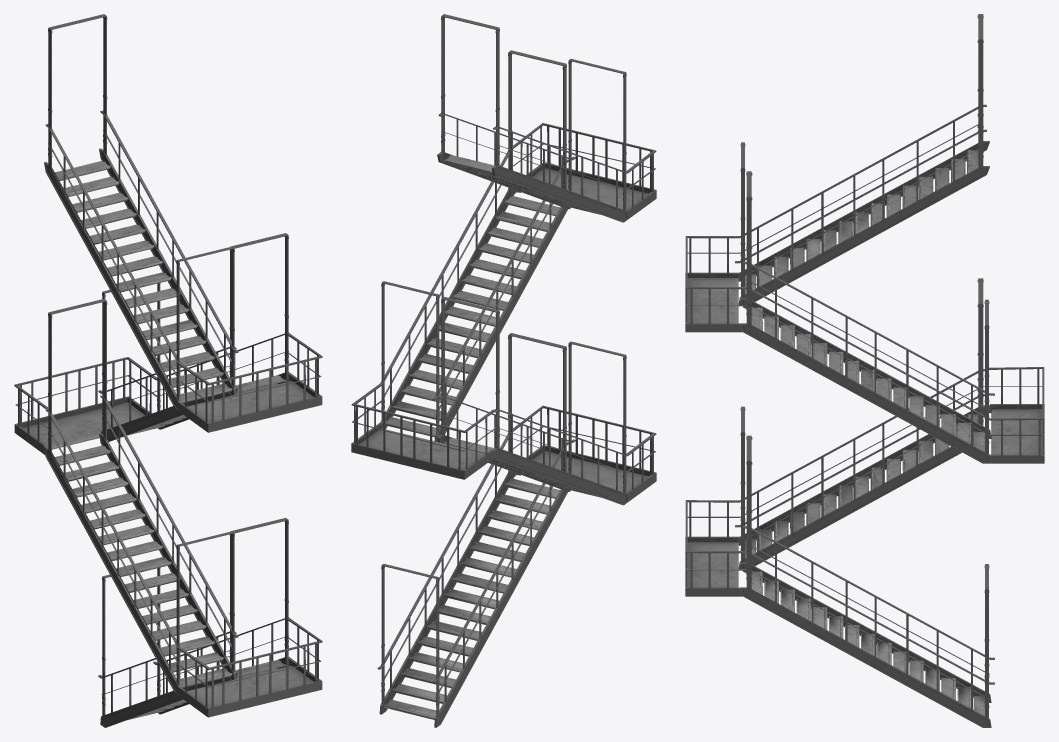
File: staircase.glb
3 views of the same model, side by side, from view 1: azimuth 30°, elevation 25°; view 2: azimuth 150°, elevation 25°; view 3: azimuth 270°, elevation 25° (orthographic). The views are drawn at different scales.
Visible parts, largest first — view 1: Cube.112_StairBody_0, Cube.112_Steps_0, Cube.111_StairBodyPlat_0, Cube.111_StepsPlat_0; view 2: Cube.112_StairBody_0, Cube.112_Steps_0, Cube.111_StairBodyPlat_0, Cube.111_StepsPlat_0; view 3: Cube.112_StairBody_0, Cube.112_Steps_0, Cube.111_StepsPlat_0, Cube.111_StairBodyPlat_0.
Boxes of the visible parts, x1=… form: Cube.112_StairBody_0: x1=44, y1=14, x2=292, y2=727; Cube.112_Steps_0: x1=55, y1=160, x2=286, y2=720; Cube.111_StairBodyPlat_0: x1=14, y1=334, x2=322, y2=717; Cube.111_StepsPlat_0: x1=23, y1=381, x2=313, y2=707; Cube.112_StairBody_0: x1=377, y1=14, x2=630, y2=727; Cube.112_Steps_0: x1=383, y1=155, x2=601, y2=719; Cube.111_StairBodyPlat_0: x1=351, y1=123, x2=656, y2=501; Cube.111_StepsPlat_0: x1=359, y1=168, x2=648, y2=492; Cube.112_StairBody_0: x1=735, y1=14, x2=994, y2=727; Cube.112_Steps_0: x1=745, y1=150, x2=984, y2=715; Cube.111_StepsPlat_0: x1=687, y1=278, x2=1042, y2=587; Cube.111_StairBodyPlat_0: x1=685, y1=236, x2=1044, y2=596.
Size of the model in its own units: 3.14 by 18.57 by 9.12.
Materials: 4 (4 with a texture image).
